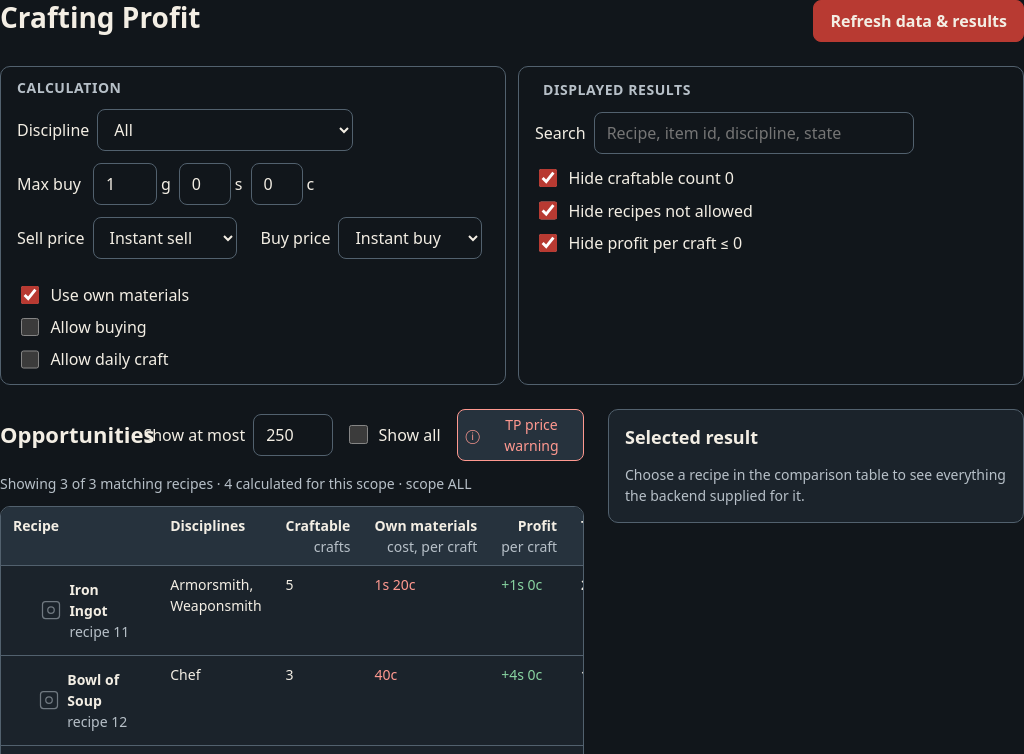
Test: CraftingProfitScreen › keepsTheSelectedDetailReachableWhileTheSearchHidesItsRow
Click the button with test id "select-row" showing "Bowl of Soup recipe 12": point(80, 700) [13,664,146,737]
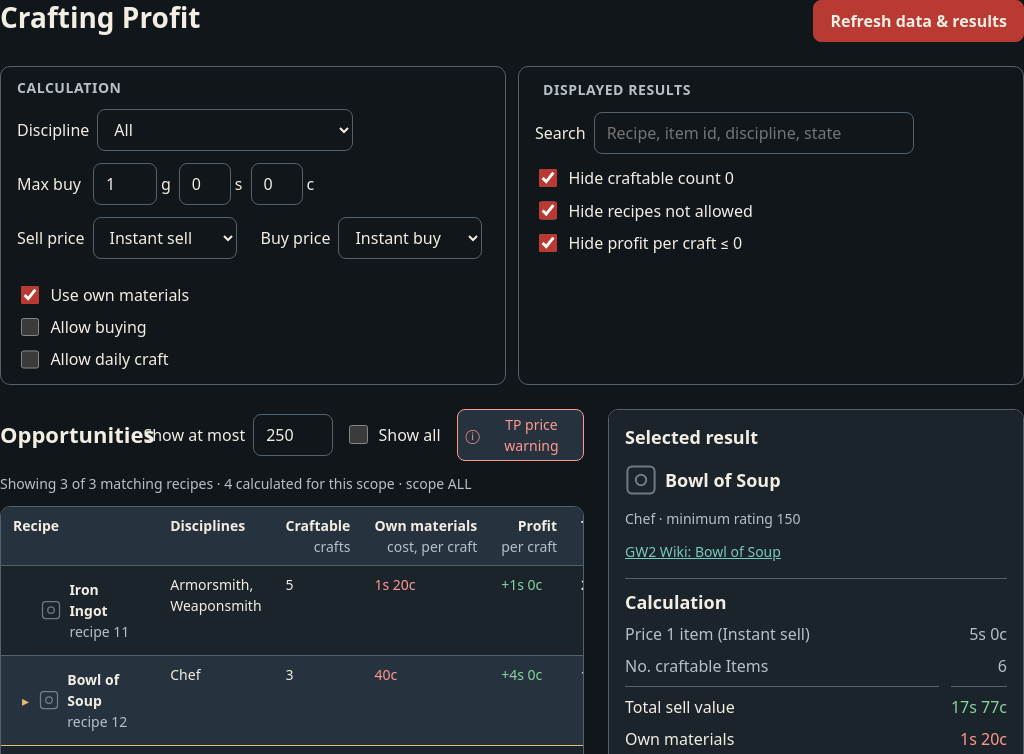
In the search field with test id "search" showing "Search": point(754, 133) [594,112,914,154], type "Iron"
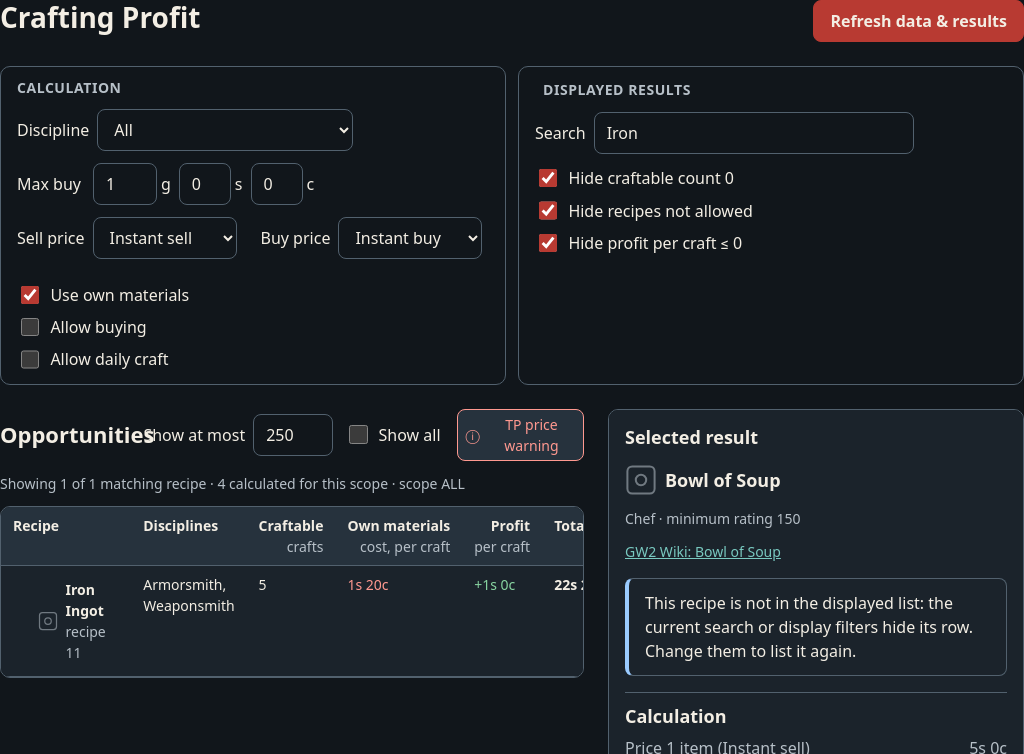
expect the heading with test id "detail-name" reads "Bowl of Soup": met, box [665,468,780,492]
expect the text with test id "detail-hidden" shows "search or display filters": met, box [645,592,973,662]
